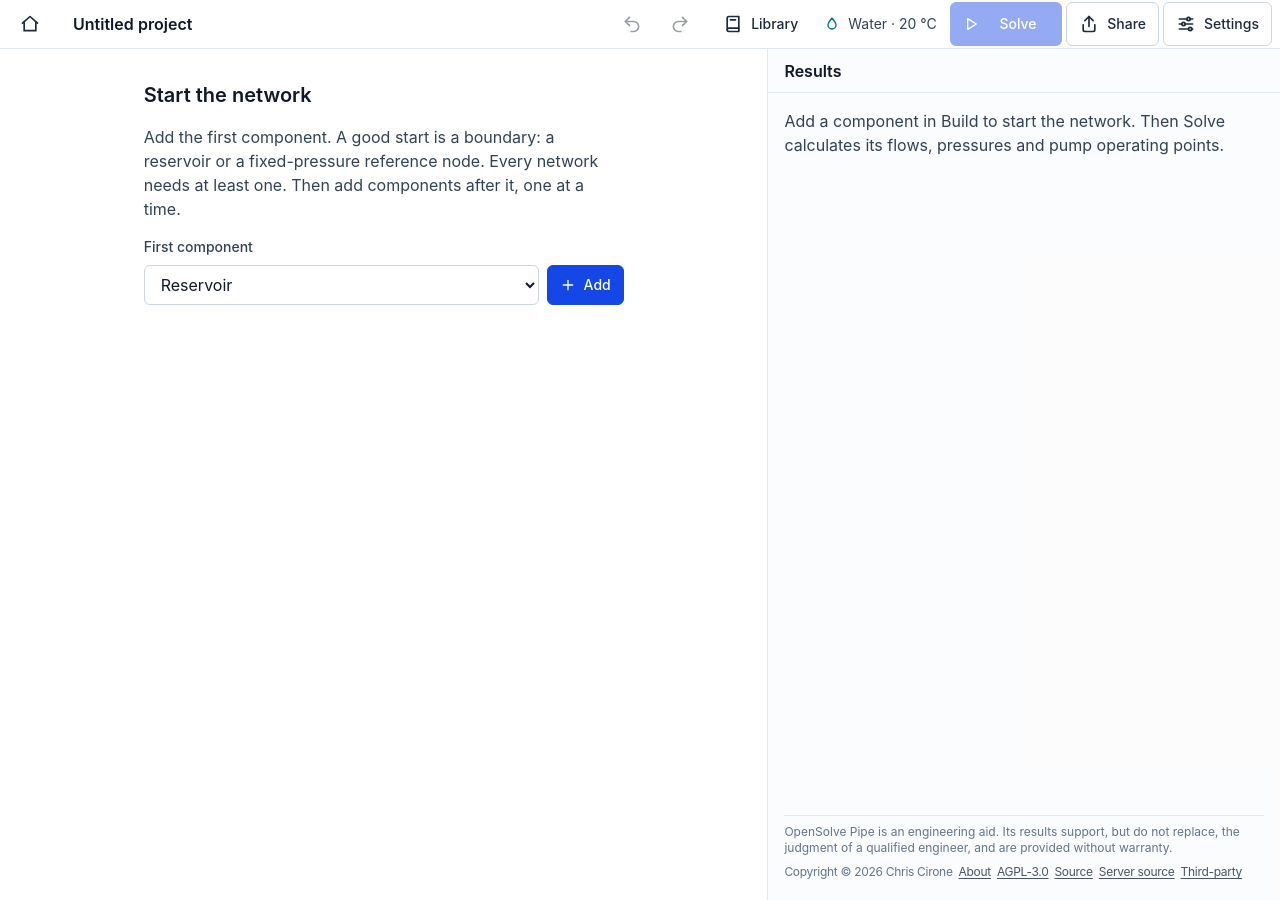
Test: reservoir entrance and exit losses › Add after a reservoir says it adds an entrance, and the piping shows it as the default
Click the button "Add" at (585, 285), box [547,265,624,305]
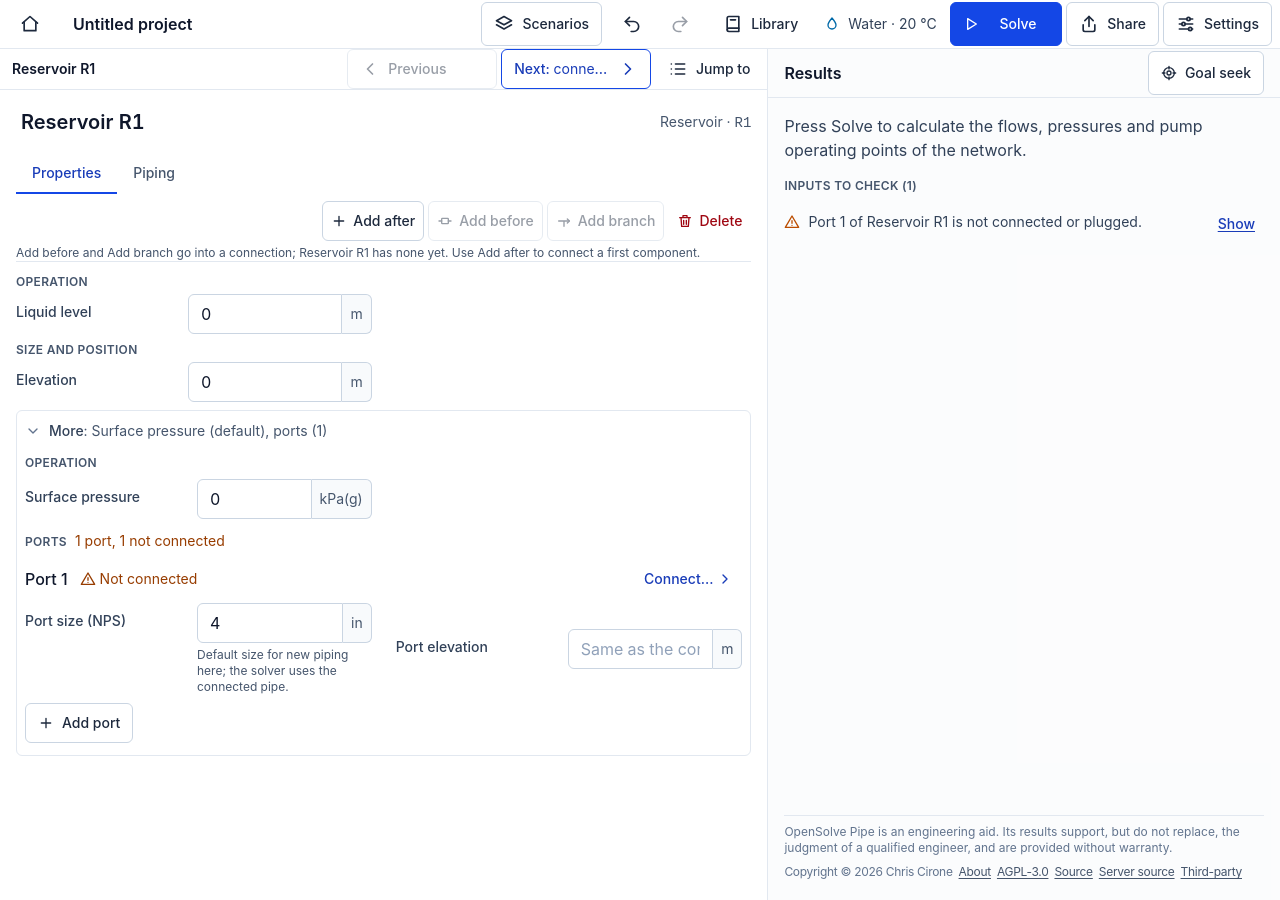
Click the button "Add after" at (373, 221), box [322,201,424,241]
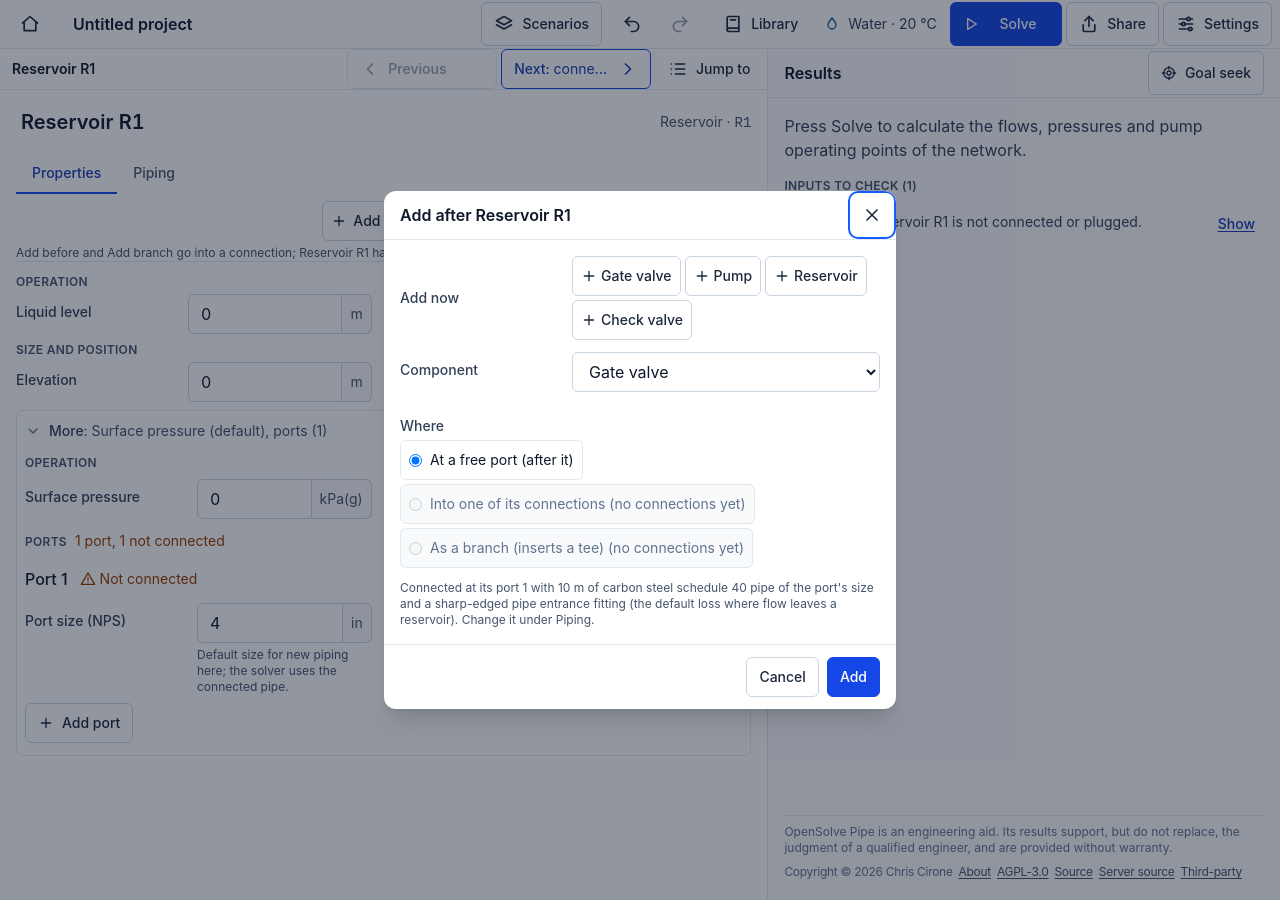
Now the text "Connected at its port 1 with 10 m of carbon steel schedule 40 pipe of the port's size and a sharp-edged pipe entrance f" is shown, box [400,580,874,627]
Select "Gate valve" in the dropdown labelled "Component" at (726, 372), box [572,352,880,392]
Click the button "Add" at (853, 677), box [827,657,880,697]
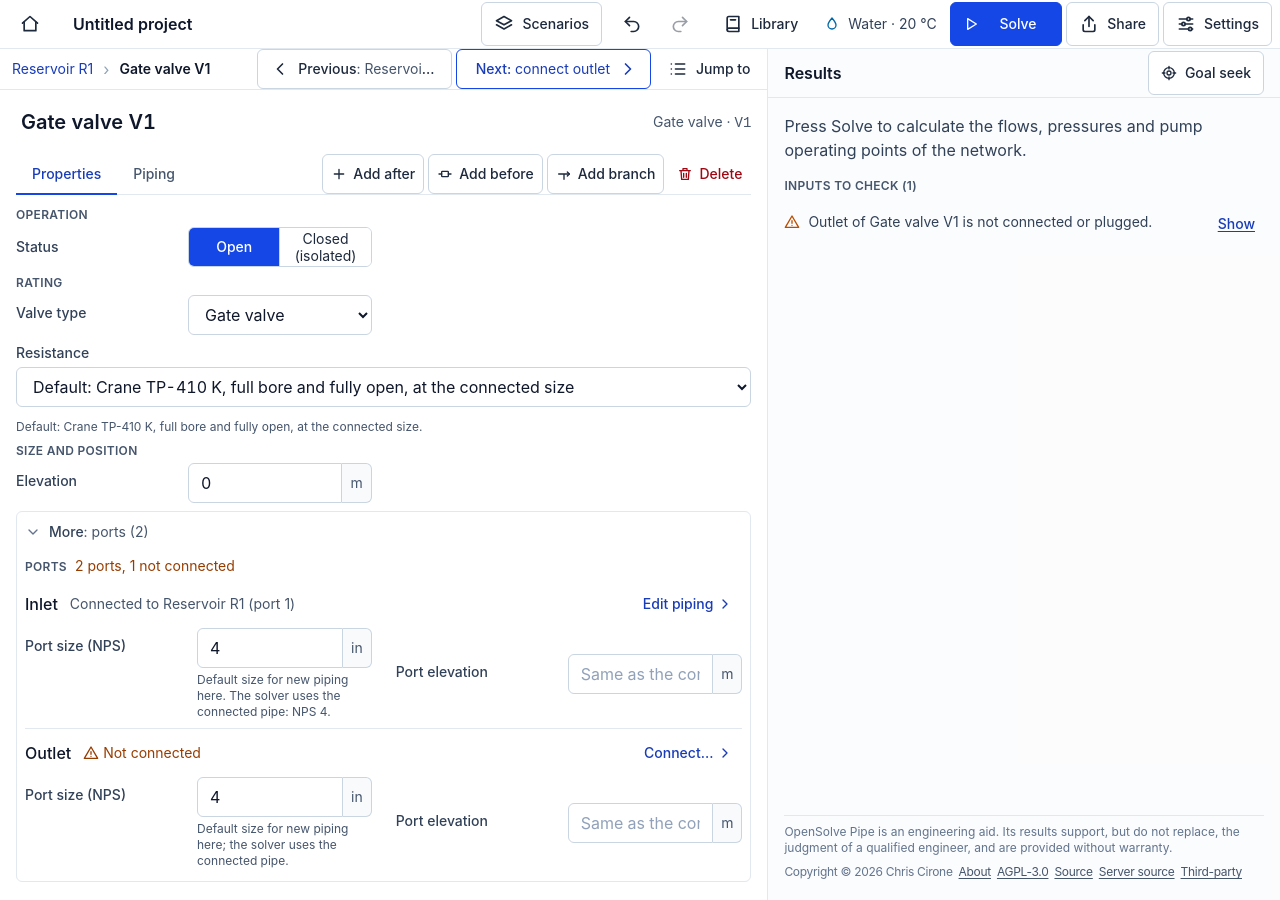
// Adding a reservoir after the valve: the hint names the exit.
Click the button "Add after" at (373, 174), box [322,154,424,194]
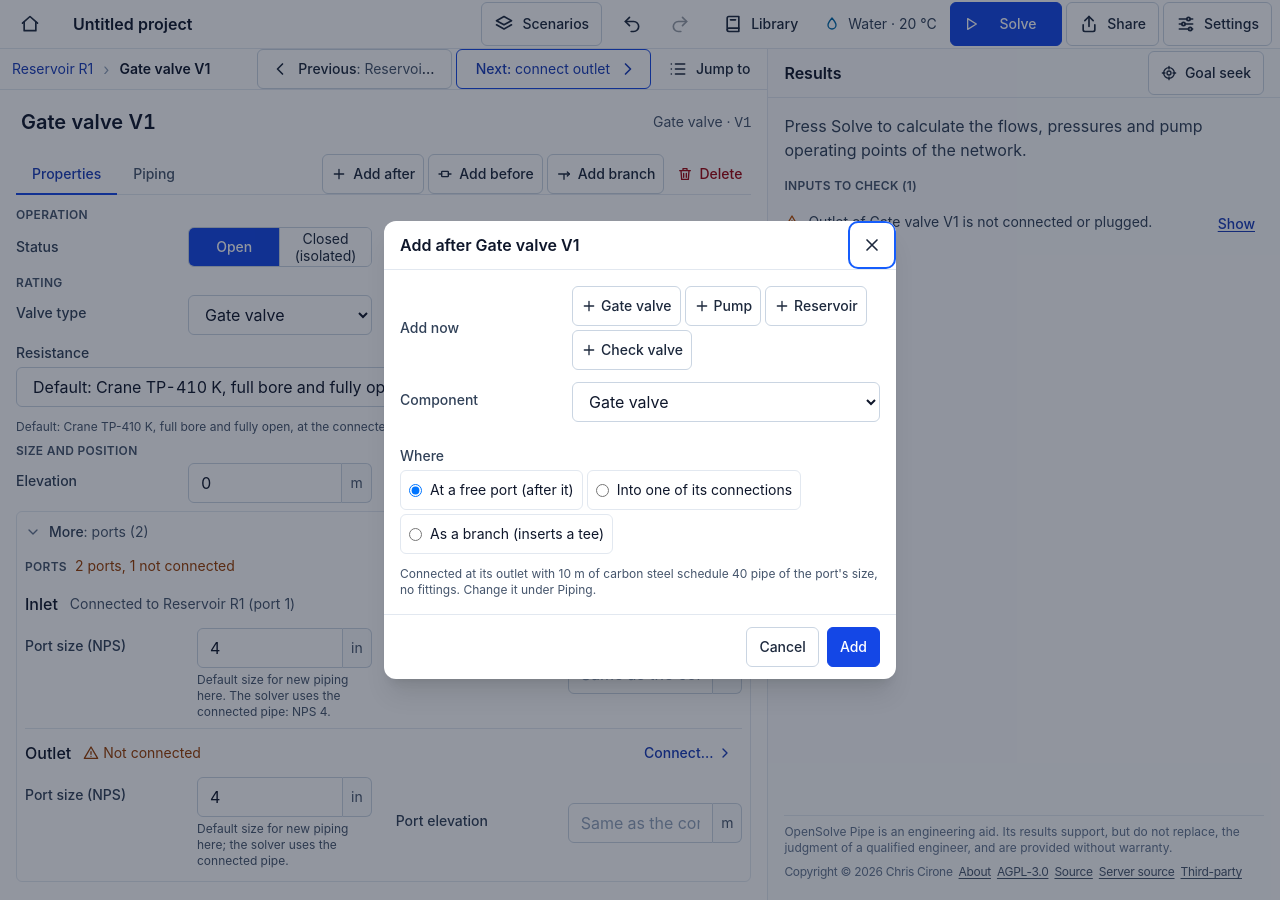
Select "Reservoir" in the dropdown labelled "Component" at (726, 402), box [572,382,880,422]
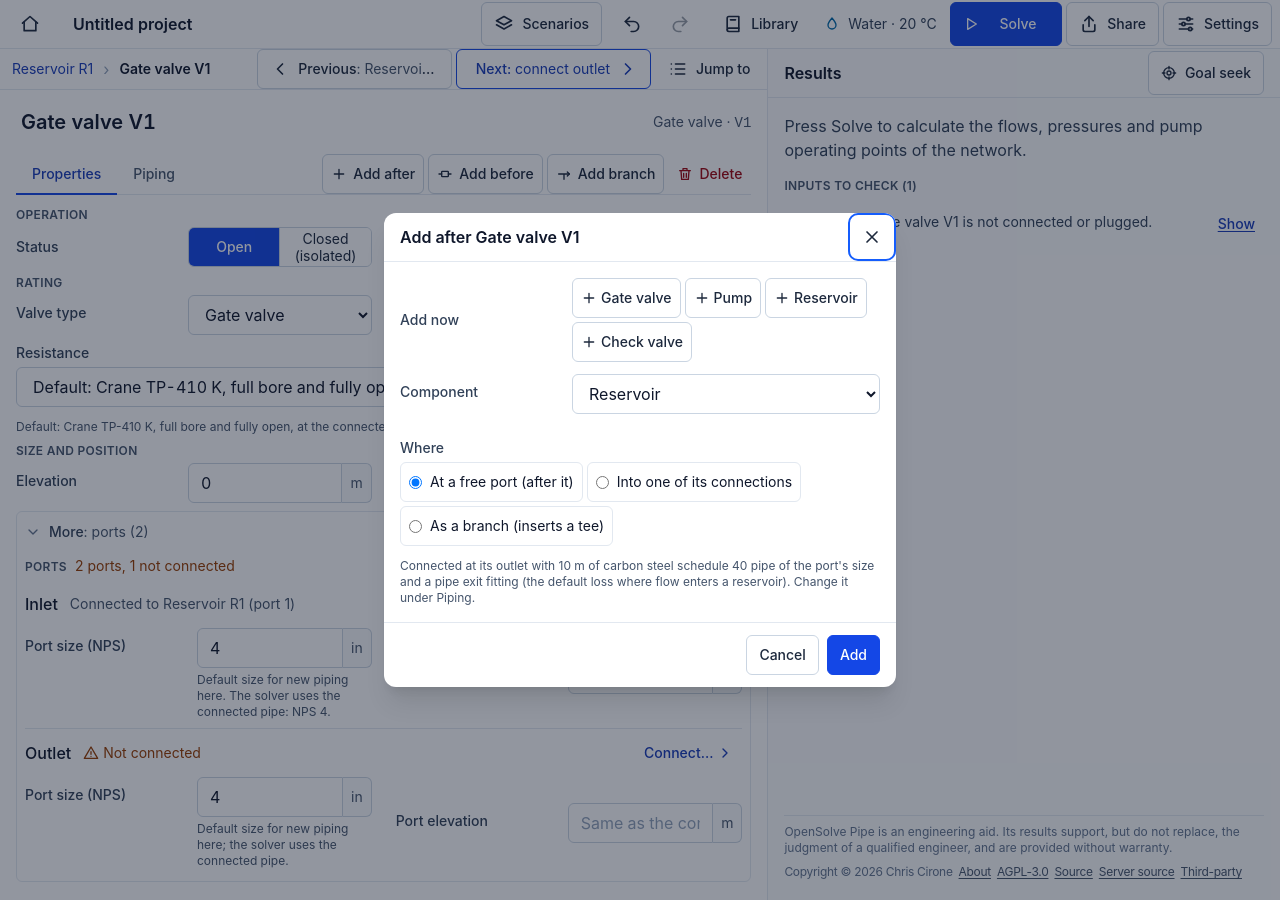
Now the text "and a pipe exit fitting (the default loss where flow enters a reservoir)" is shown, box [400,558,874,605]
Click the button "Add" at (853, 655), box [827,635,880,675]
(page scrolled)
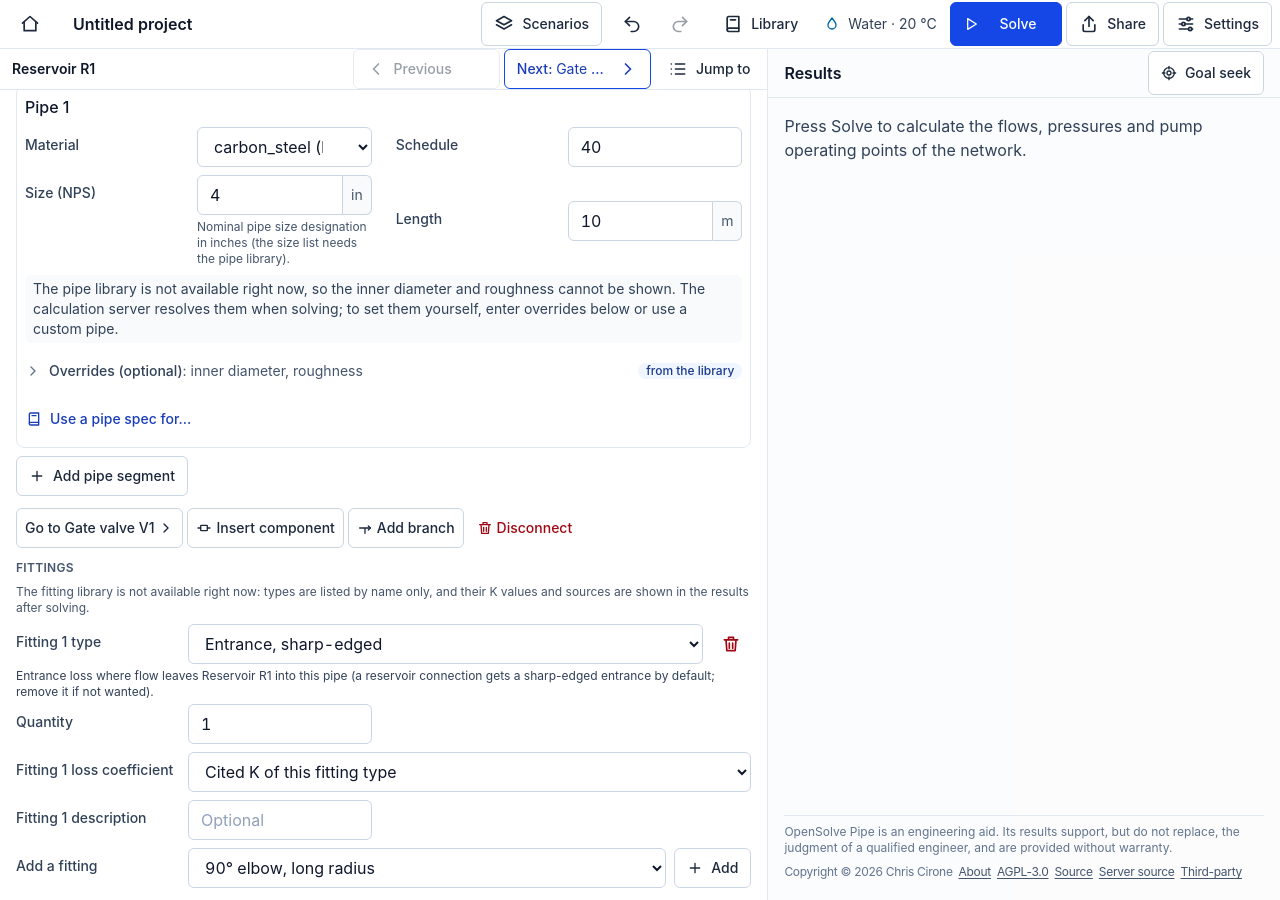
Now the text "Entrance loss where flow leaves Reservoir R1 into this pipe" is shown, box [16,668,715,699]
